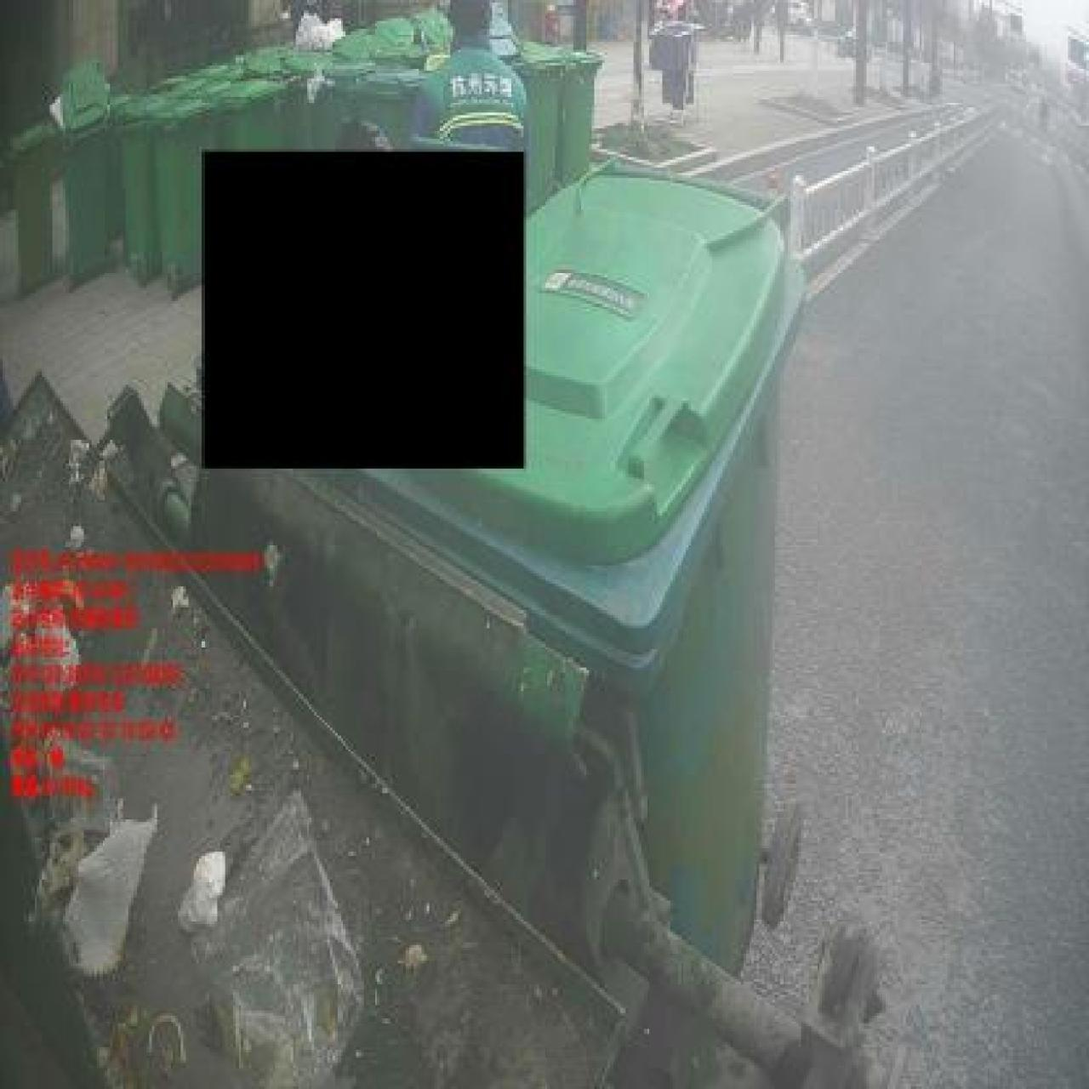bin_empty: (333, 163, 803, 968), (60, 60, 112, 285), (153, 98, 211, 296), (556, 50, 602, 185), (220, 79, 286, 150)
